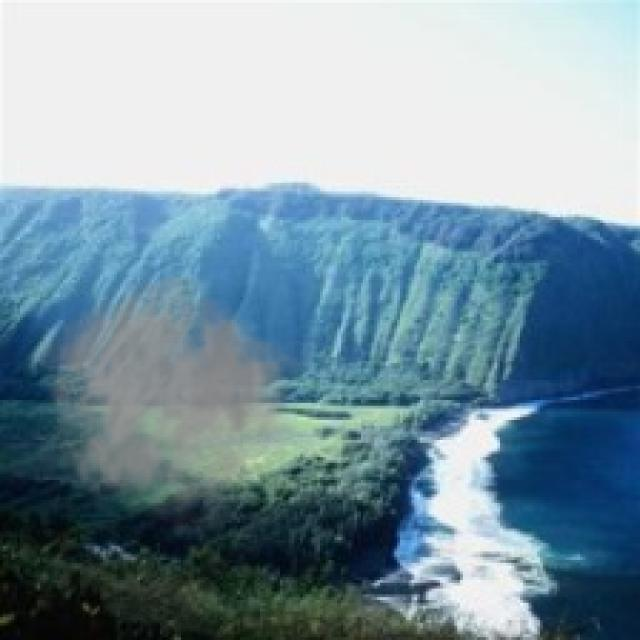Smoke: (37, 274, 312, 540)
